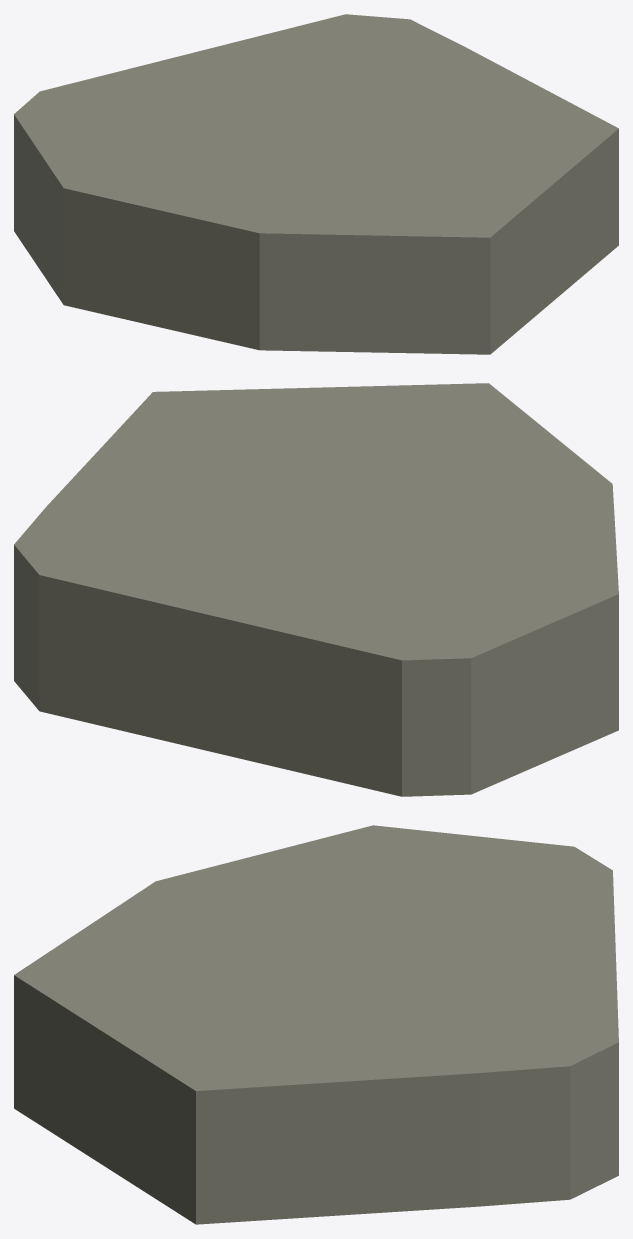
Rendered from Tile7.fbx.
The picture shows the model from 3 angles, top to bottom: view 1: azimuth 30°, elevation 25°; view 2: azimuth 150°, elevation 25°; view 3: azimuth 270°, elevation 25°; orthographic projection. The views are drawn at different scales.
Visible parts, largest first — view 1: Tile7; view 2: Tile7; view 3: Tile7.
Boxes of the visible parts, x1=… form: Tile7: x1=14, y1=14, x2=618, y2=354; Tile7: x1=14, y1=383, x2=618, y2=796; Tile7: x1=14, y1=825, x2=618, y2=1224.
Size of the model in its own units: 0.1608 by 0.0377 by 0.1546.
